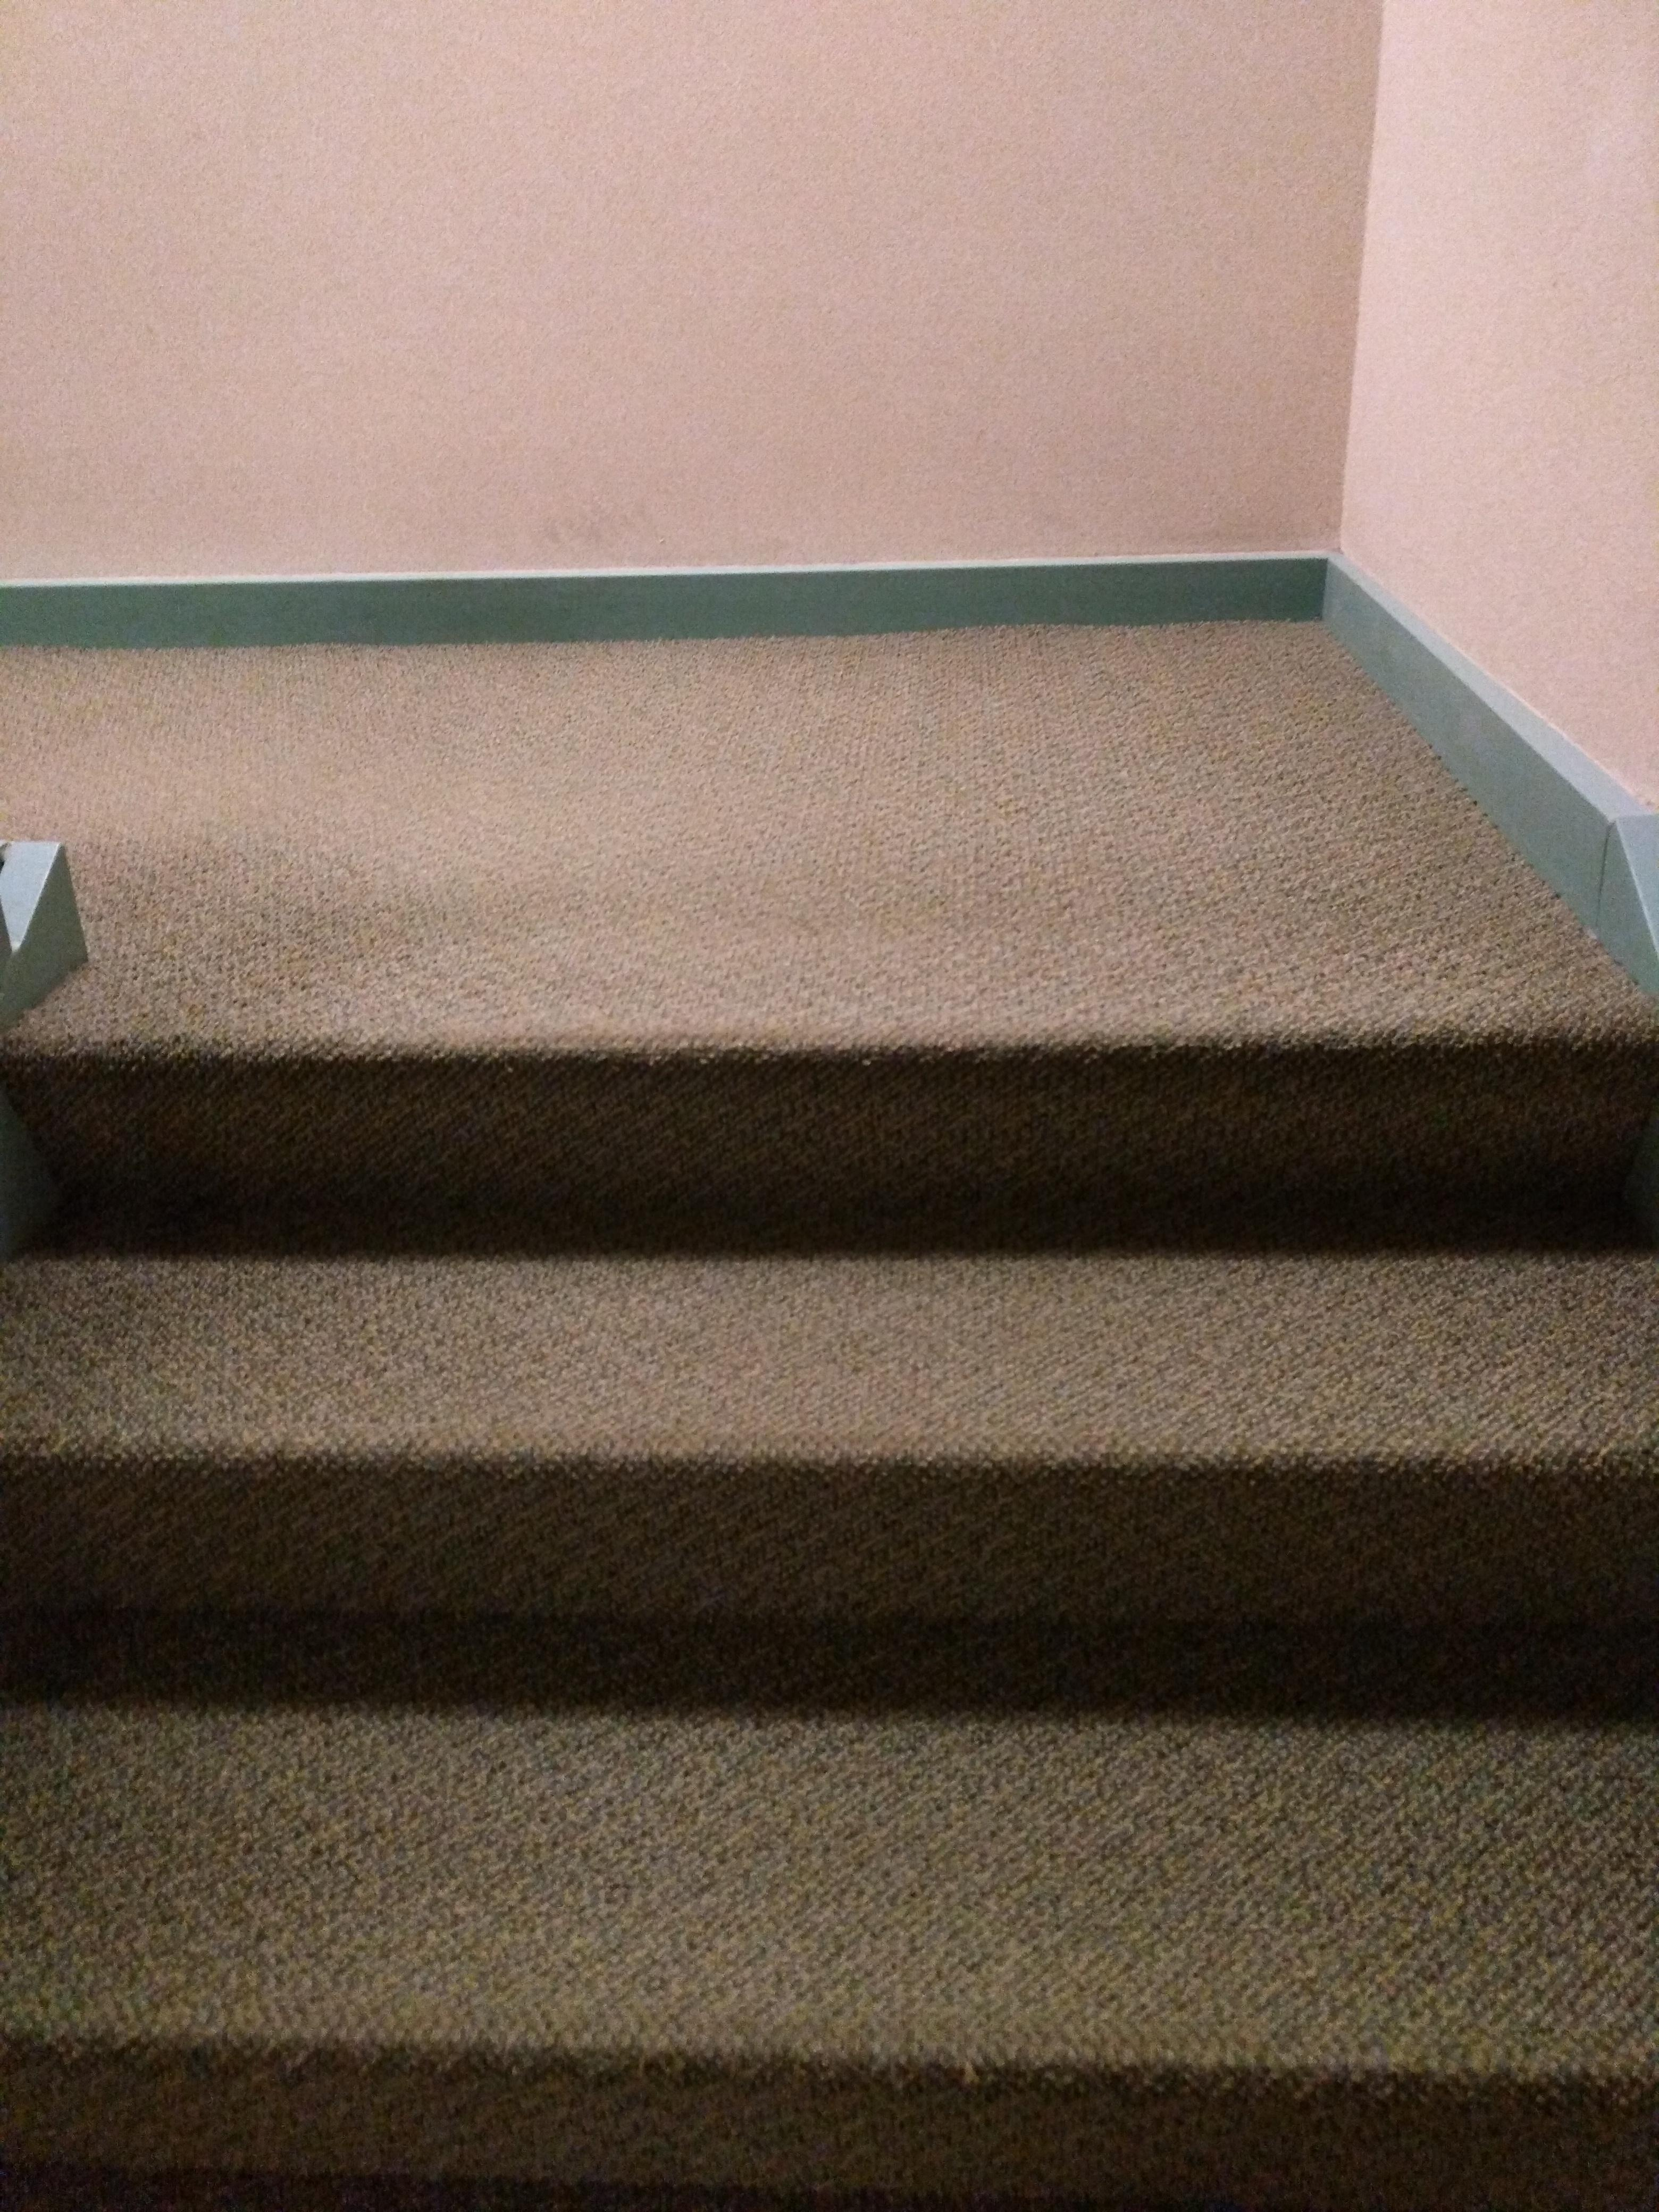stairs_up: (23, 1035, 1659, 2102)
